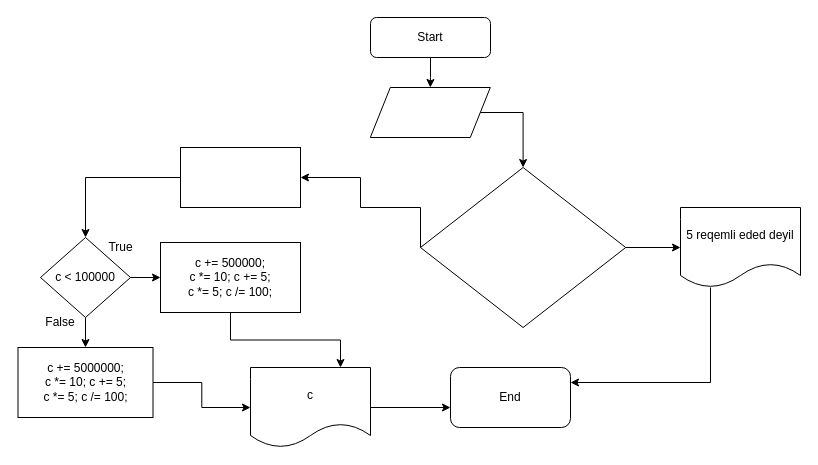
Some shapes in this 818 by 465 pixel diagram are drawn without their labels. The centre of each missing label's shape, as x and y in pixels:
! a >= 10000 && a < 100000 && b >= 10000 && b < 100000: point (523, 247)
a=12345 b=12345: point (429, 112)
c = a + b: point (240, 177)
